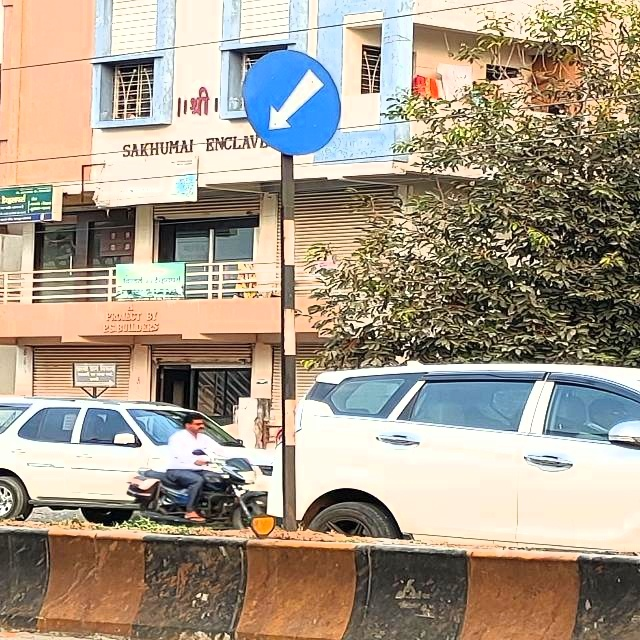R.301e: (238, 43, 349, 161)
